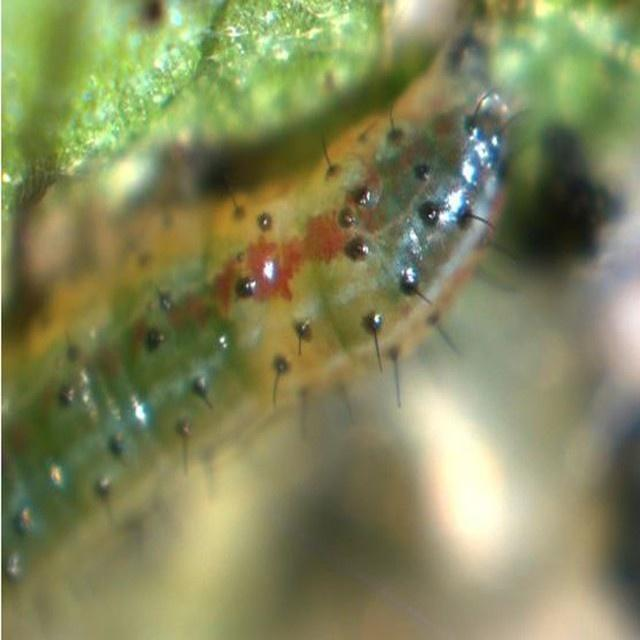gusano_cogollero: (0, 74, 505, 586)
